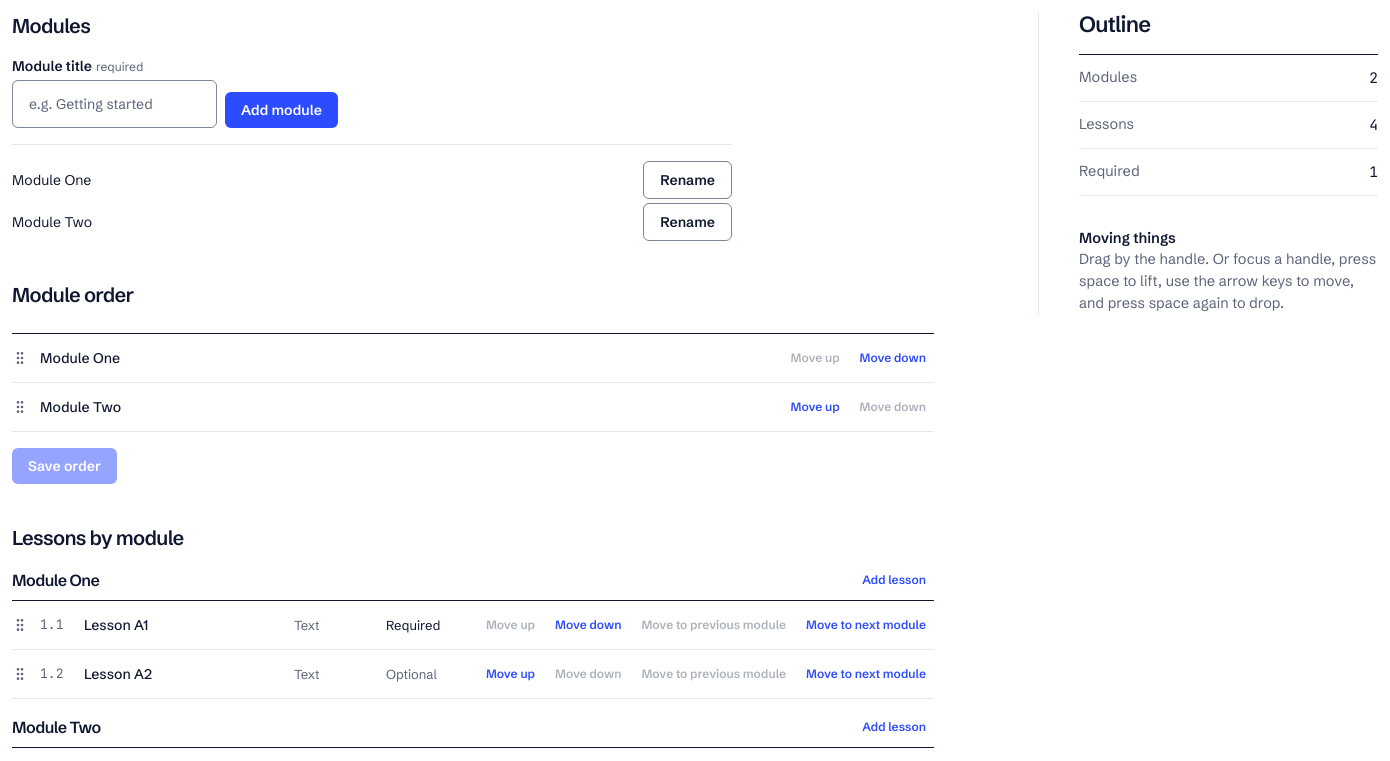
Scenario: ArrangeClient — course module board rejected save recovers › clears the busy flag, surfaces a generic retryable alert, and a user retry succeeds
The width and height of the screenshot is (1390, 761).
Click the button with aria-label "Move Module One down".
click(893, 358)  # box [852,346,934,370]
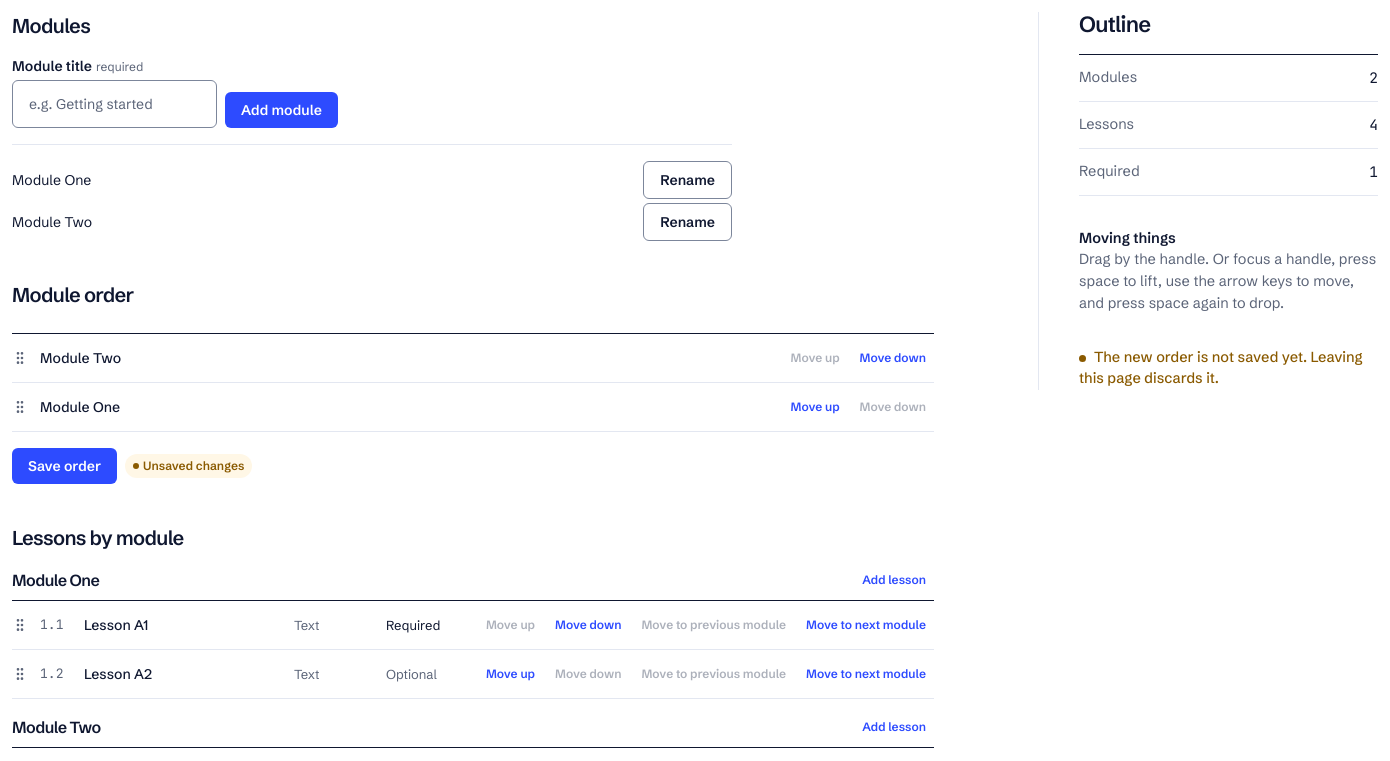
Result: the button "Save order" is enabled
Click the button "Save order".
click(64, 466)  # box [12,448,117,484]
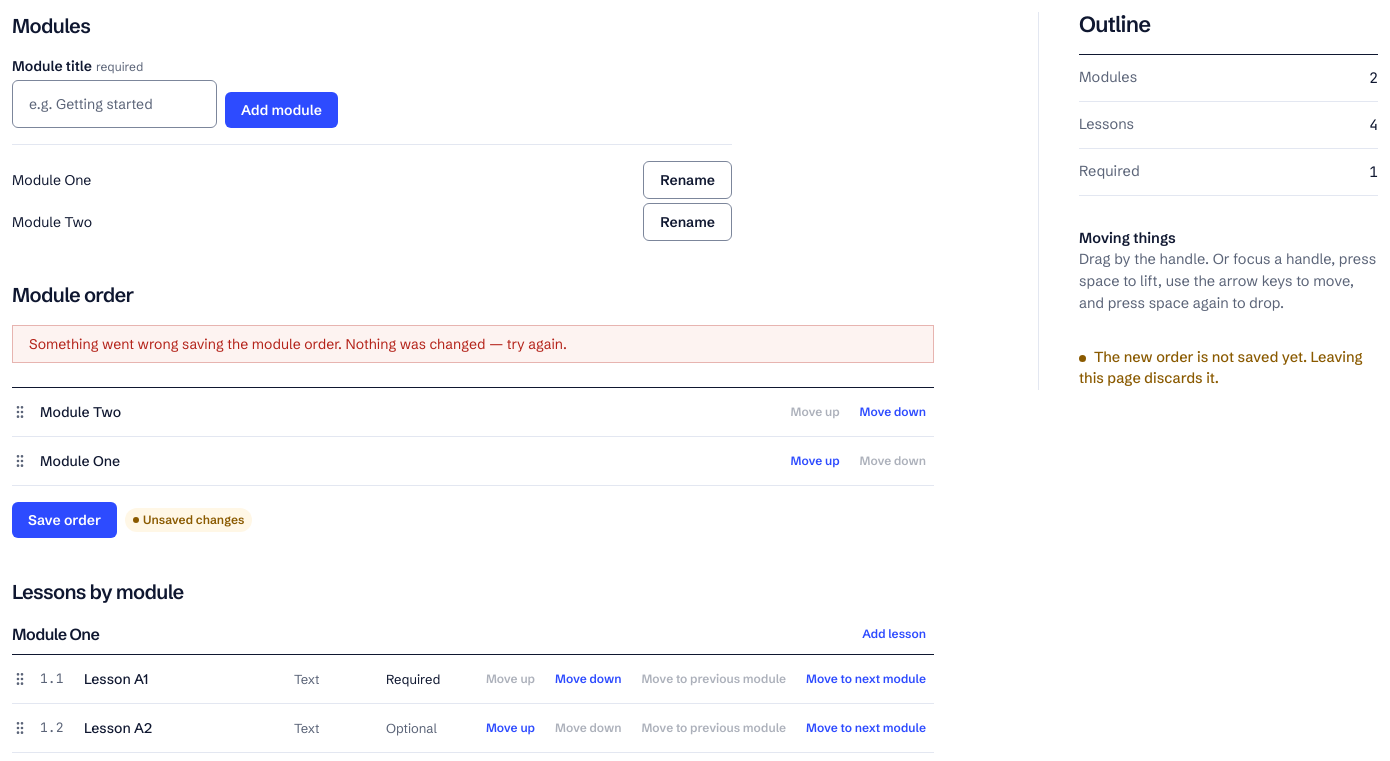
Result: the button "Save order" is enabled
Result: the message "Something went wrong saving the module order. Nothing was changed — try again." is shown at [12,325,934,363]
Click the button "Save order".
click(64, 520)  # box [12,502,117,538]
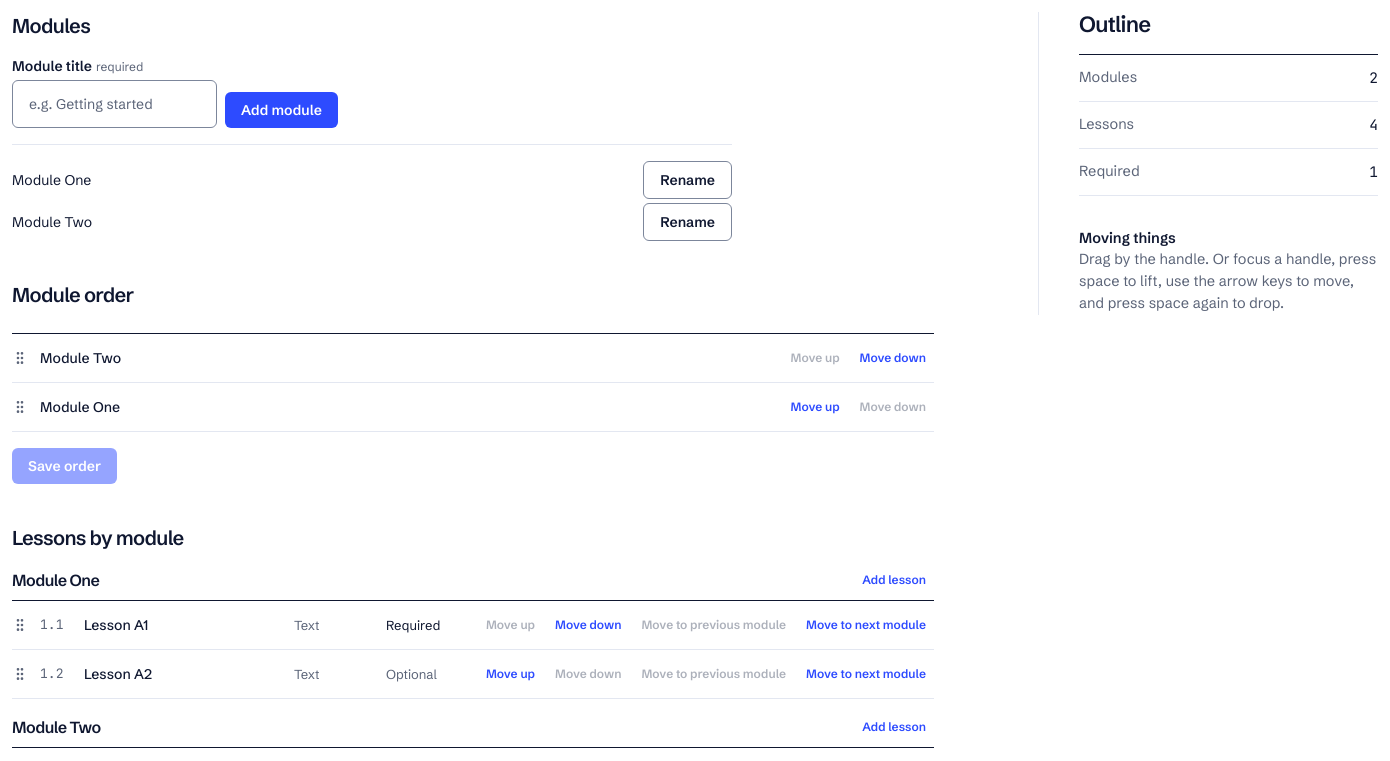
Result: the message "Something went wrong saving the module order. Nothing was changed — try again." is gone
